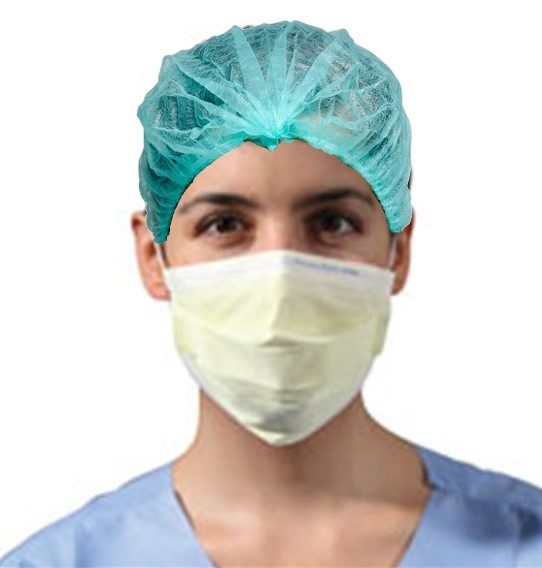with_mask_and_cap: (138, 25, 413, 450)
